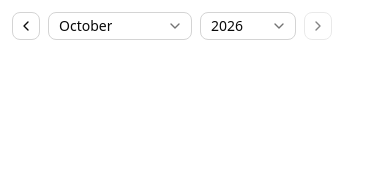
Test case: MonthSelector › offers every year from the first logged entry to now
Click the dropdown named "Year" at (248, 26), box top-left (200, 12), bottom-right (296, 40)
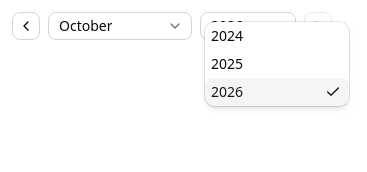
Result: the options read "2024", "2025", "2026", in this order at top-left (211, 26), bottom-right (243, 45); top-left (211, 54), bottom-right (243, 73); top-left (205, 78), bottom-right (349, 106)
